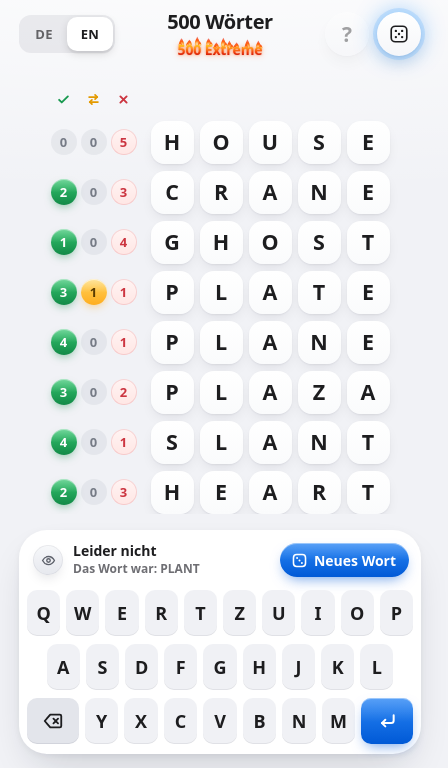
Scenario: Ergebnis-Karte › «Neues Wort» in der Karte startet sofort eine neue Runde
The width and height of the screenshot is (448, 768).
Click the button "Neues Wort" at (344, 560), box [280, 543, 409, 577]
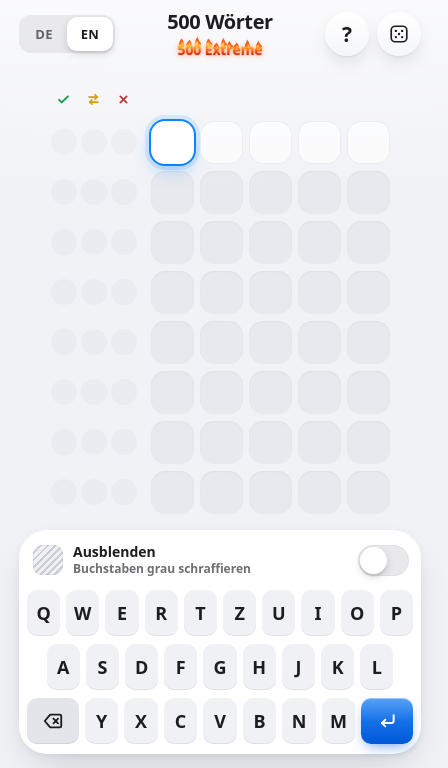
Expected: the element with test id "result-card" is gone
